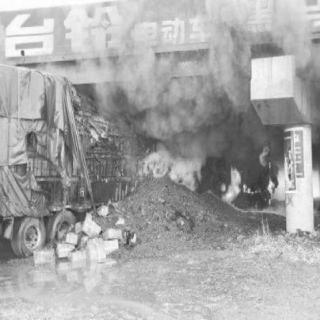Fire: (253, 134, 273, 166)
other: (165, 56, 203, 77)
